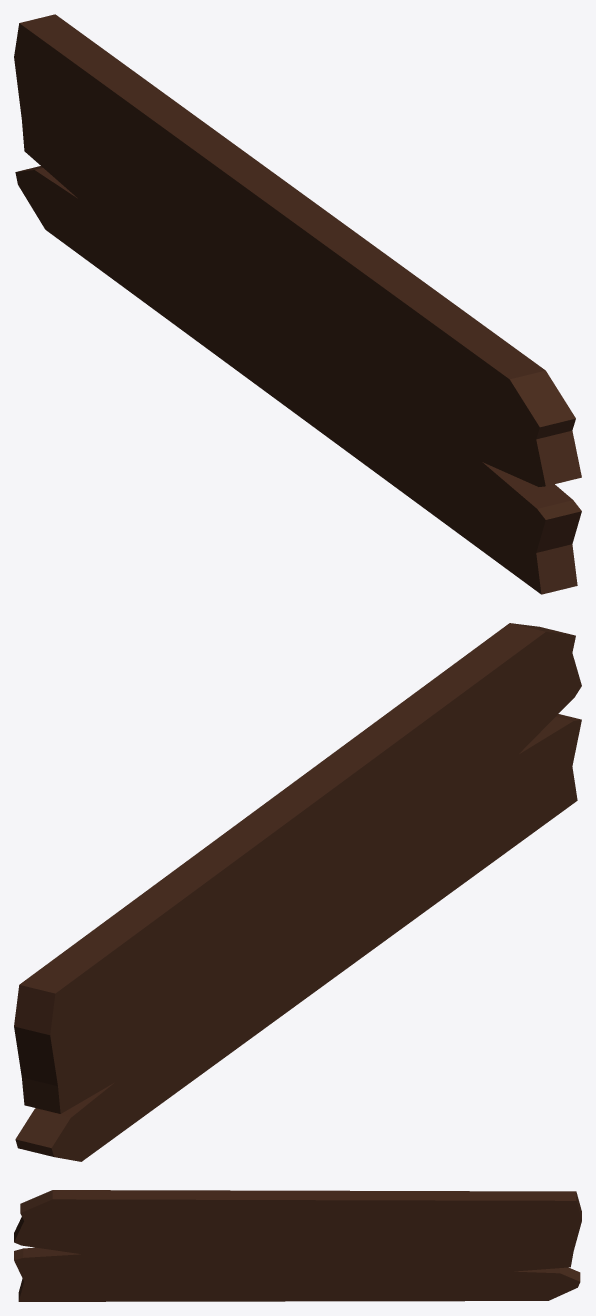
The model's file is TablaMadera.fbx.
3 views of the same model, one above another, from view 1: azimuth 30°, elevation 25°; view 2: azimuth 150°, elevation 25°; view 3: azimuth 270°, elevation 25° (orthographic). The views are drawn at different scales.
Parts seen in each view (by area): view 1: Tablones; view 2: Tablones; view 3: Tablones.
Part boxes in pixels (x1,y1,x2,y2): Tablones: (14,14,581,594); Tablones: (14,623,581,1161); Tablones: (14,1190,581,1301).
Size of the model in its own units: 0.0498 by 0.2525 by 1.27.
